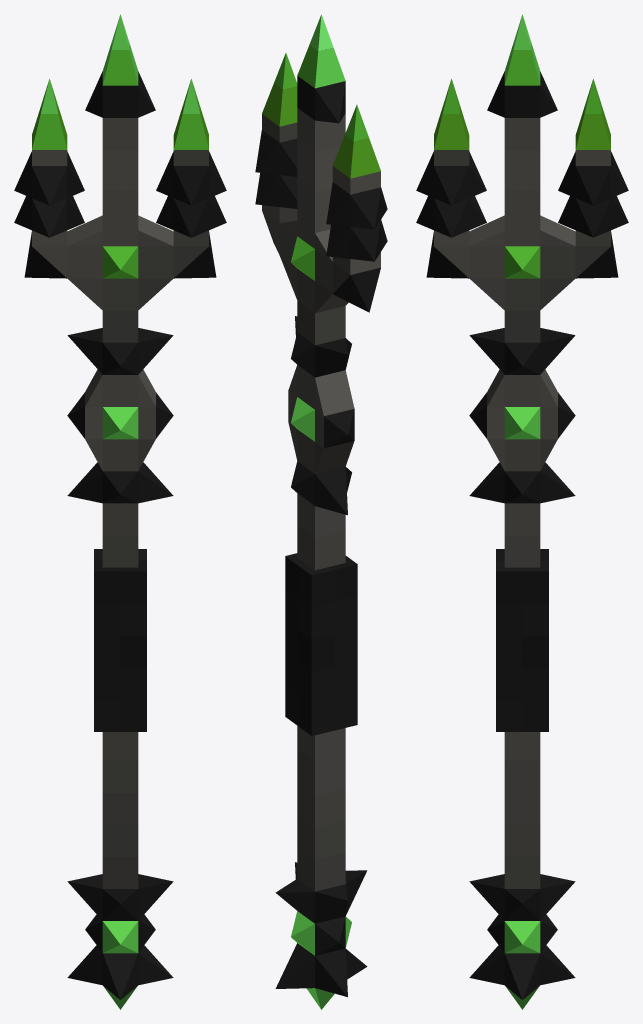
File: hellfire_trident.obj
3 views of the same model, side by side, from view 1: azimuth 90°, elevation 25°; view 2: azimuth 210°, elevation 25°; view 3: azimuth 270°, elevation 25° (orthographic).
Visible parts, largest first — view 1: TRIDENT_Cube.001; view 2: TRIDENT_Cube.001; view 3: TRIDENT_Cube.001.
Part boxes in pixels (bbox=[...]): TRIDENT_Cube.001: bbox=[14, 14, 226, 1009]; TRIDENT_Cube.001: bbox=[255, 14, 387, 1009]; TRIDENT_Cube.001: bbox=[416, 14, 628, 1009].
Size of the model in its own units: 0.1875 by 1.94 by 0.375.
